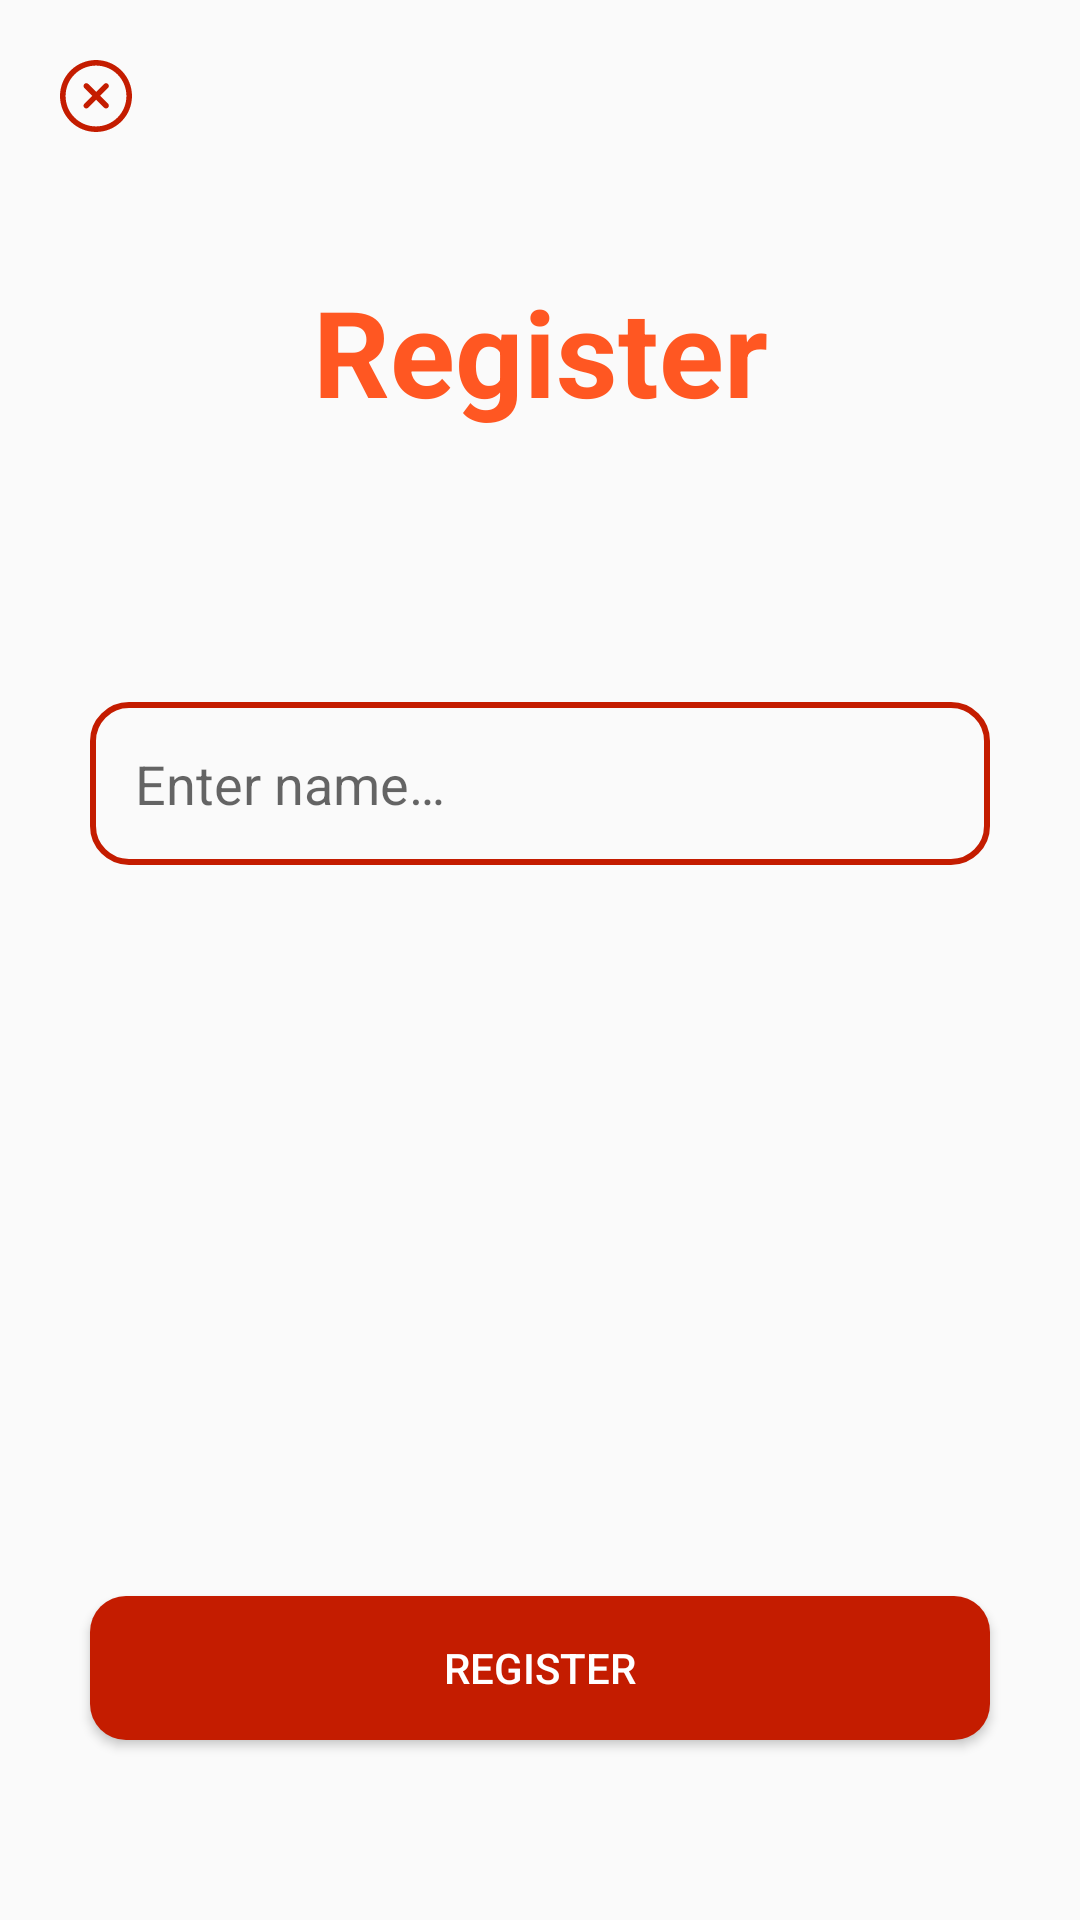

Icons on this 1080*1920 Android screen, each with its box as (x1, y1, x2, y2):
close: (60, 60, 132, 132)
